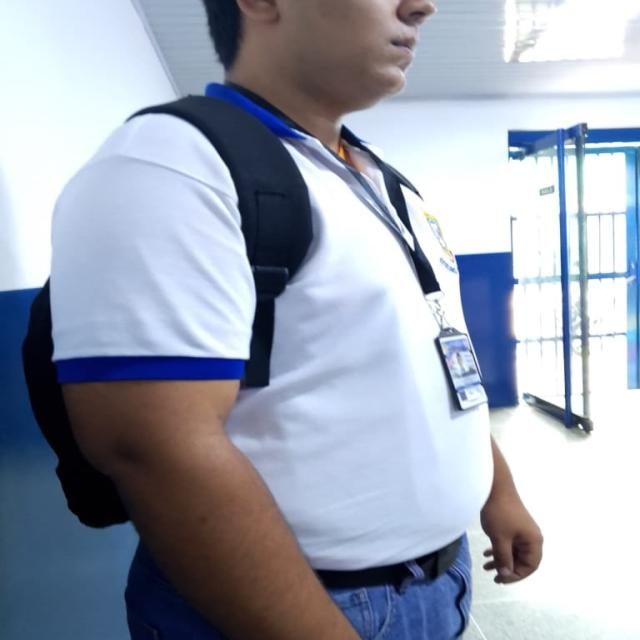carnet: (439, 334, 489, 411)
uniforme_superior: (48, 82, 496, 570)
